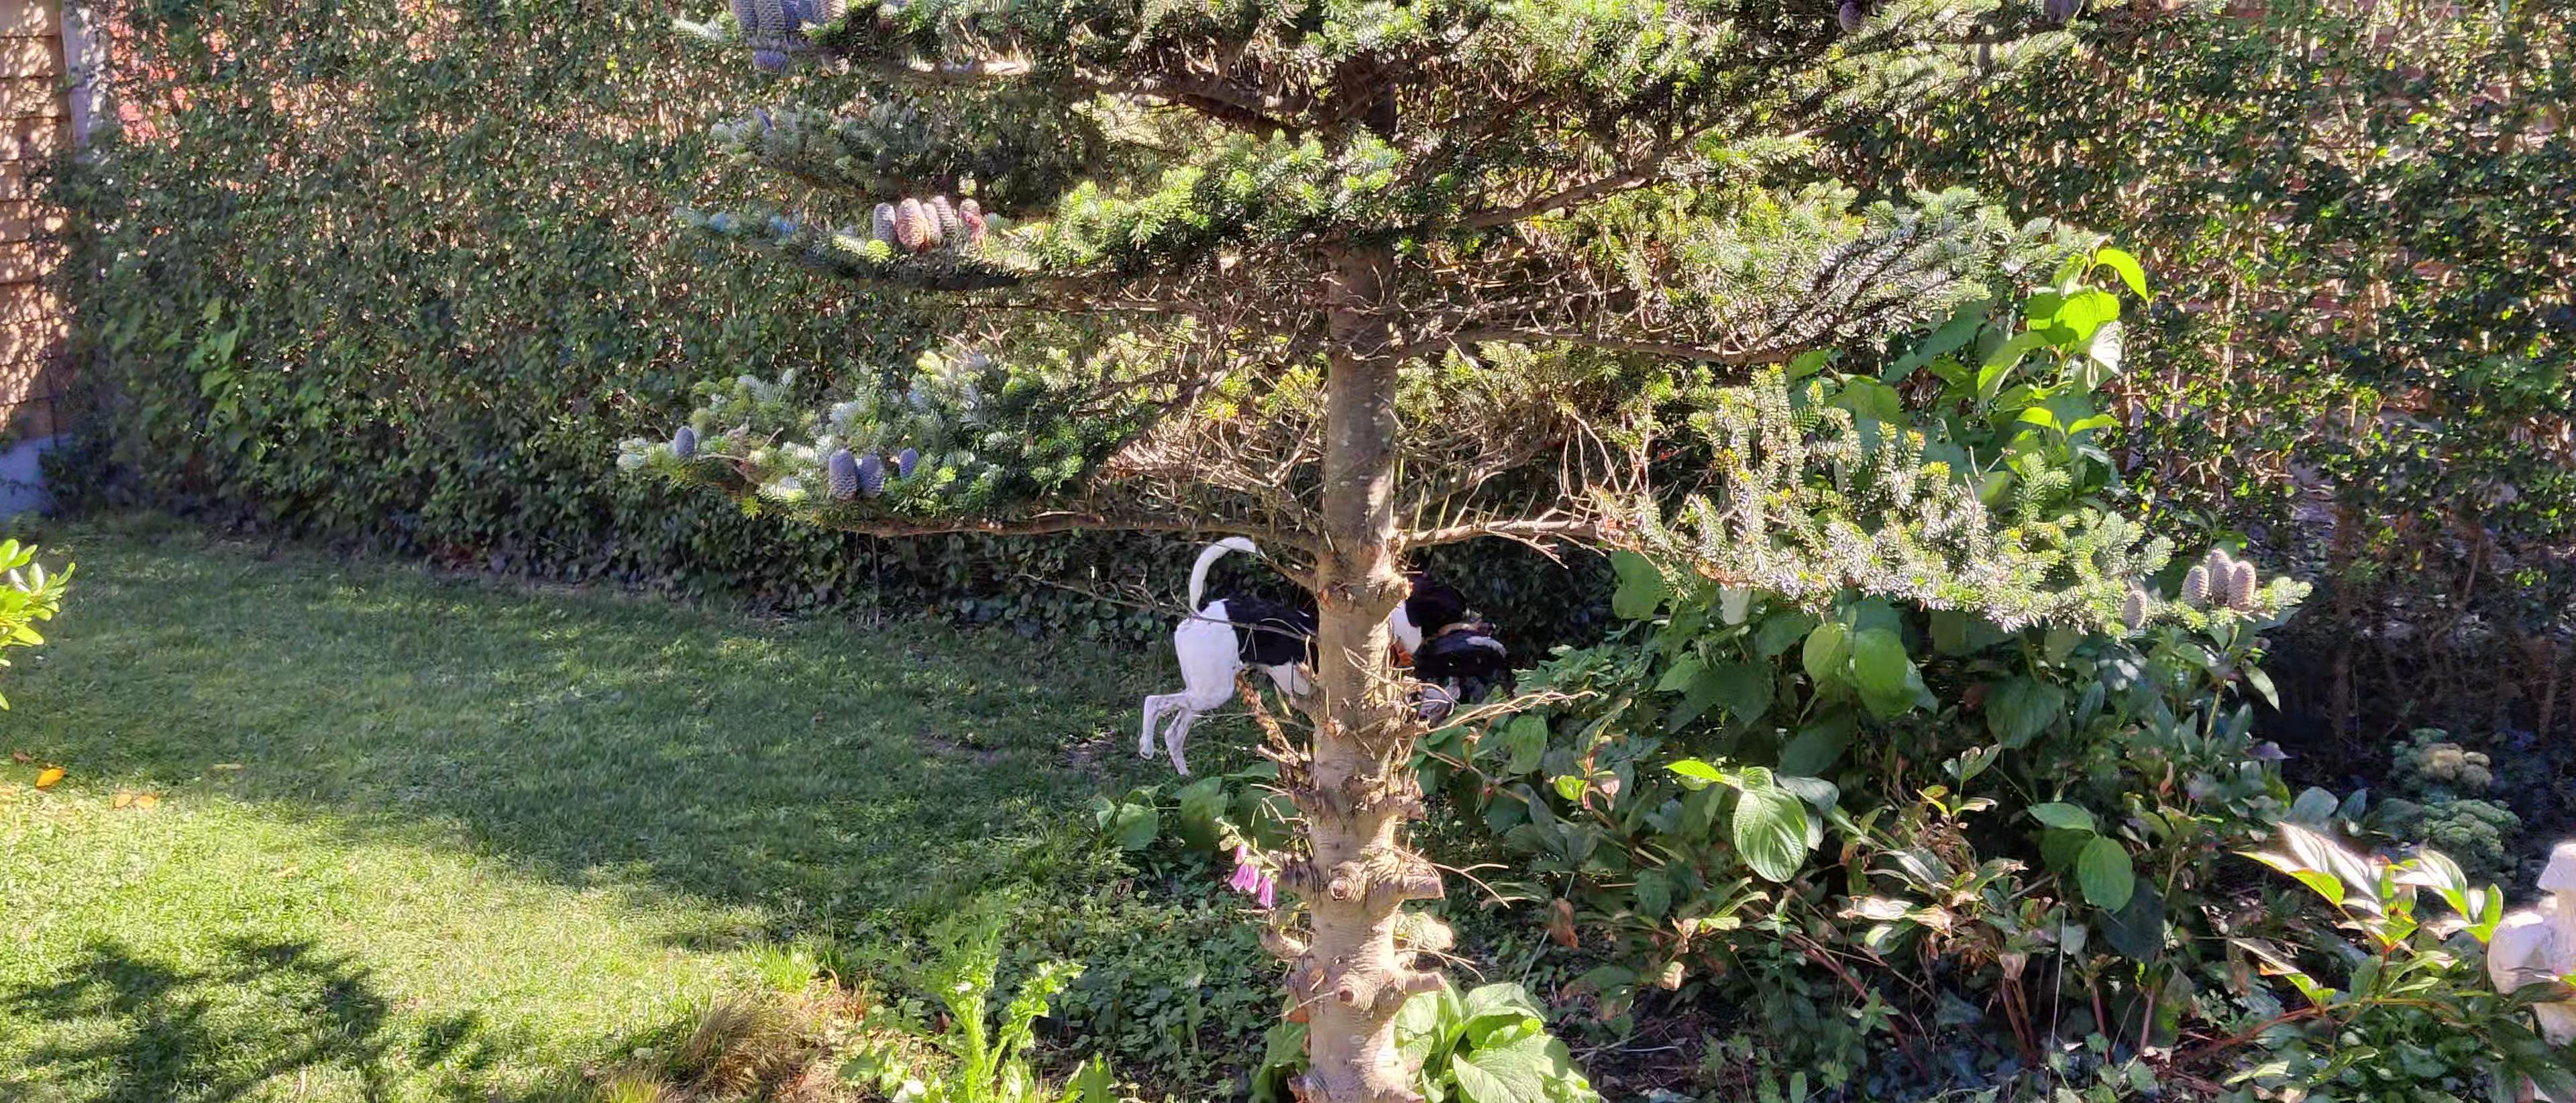Dog: (1134, 536, 1502, 779)
